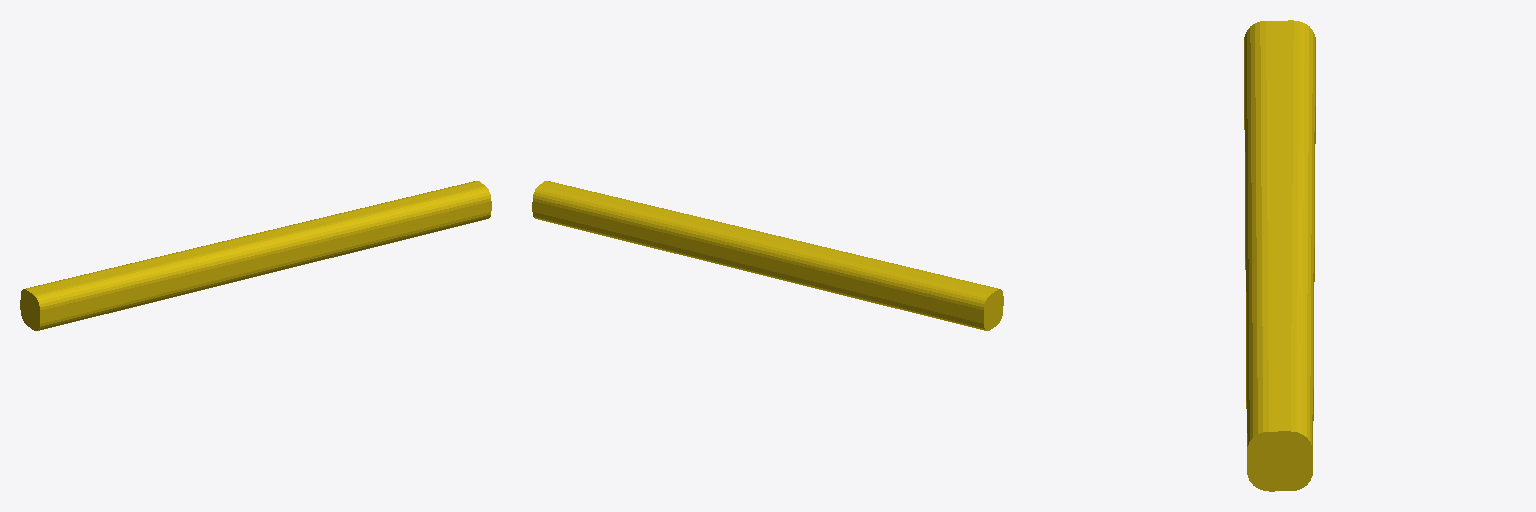
The robot description file, URDF, robot "cb_chopstick_t45d115":
<?xml version="1.0"?>
<!-- ContactBench chopstick. Generated by FoundationTouch tools/contactbench/make_contactbench_assets.py -->
<robot name="cb_chopstick_t45d115">
  <material name="c"><color rgba="0.85 0.75 0.10 1.0"/></material>
  <link name="object">
    <visual><origin xyz="0 0 0" rpy="0 0 0"/><geometry><mesh filename="chopstick.obj" scale="1 1 1"/></geometry><material name="c"/></visual>
    <collision><origin xyz="0 0 0" rpy="0 0 0"/><geometry><mesh filename="coll_00.obj" scale="1 1 1"/></geometry></collision>
    <inertial><mass value="1.236602e-03"/><origin xyz="0 0 0" rpy="0 0 0"/><inertia ixx="4.536472e-09" ixy="4.095288e-16" ixz="-1.342390e-16" iyy="5.060240e-07" iyz="1.139894e-15" izz="5.060240e-07"/></inertial>
  </link>
</robot>

--- What the picture shows (computed from the rendered views, not written in the file) ---
3 views of the same robot in one strip: view 1: azimuth 30°, elevation 25°; view 2: azimuth 150°, elevation 25°; view 3: azimuth 270°, elevation 25° (orthographic).
Robot: cb_chopstick_t45d115 — 1 links, 0 joints (none); root link object; default pose: every joint at zero.
Visible links, largest first — view 1: object; view 2: object; view 3: object.
Boxes of the visible links, bbox=[...] form: object: bbox=[20, 181, 491, 330]; object: bbox=[532, 181, 1003, 330]; object: bbox=[1244, 20, 1315, 491].
Bounding box of the posed robot: 0.07 × 0.0052 × 0.0052 m (x, y, z).
1 mesh visuals loaded from 1 distinct referenced files (1 OBJ).
